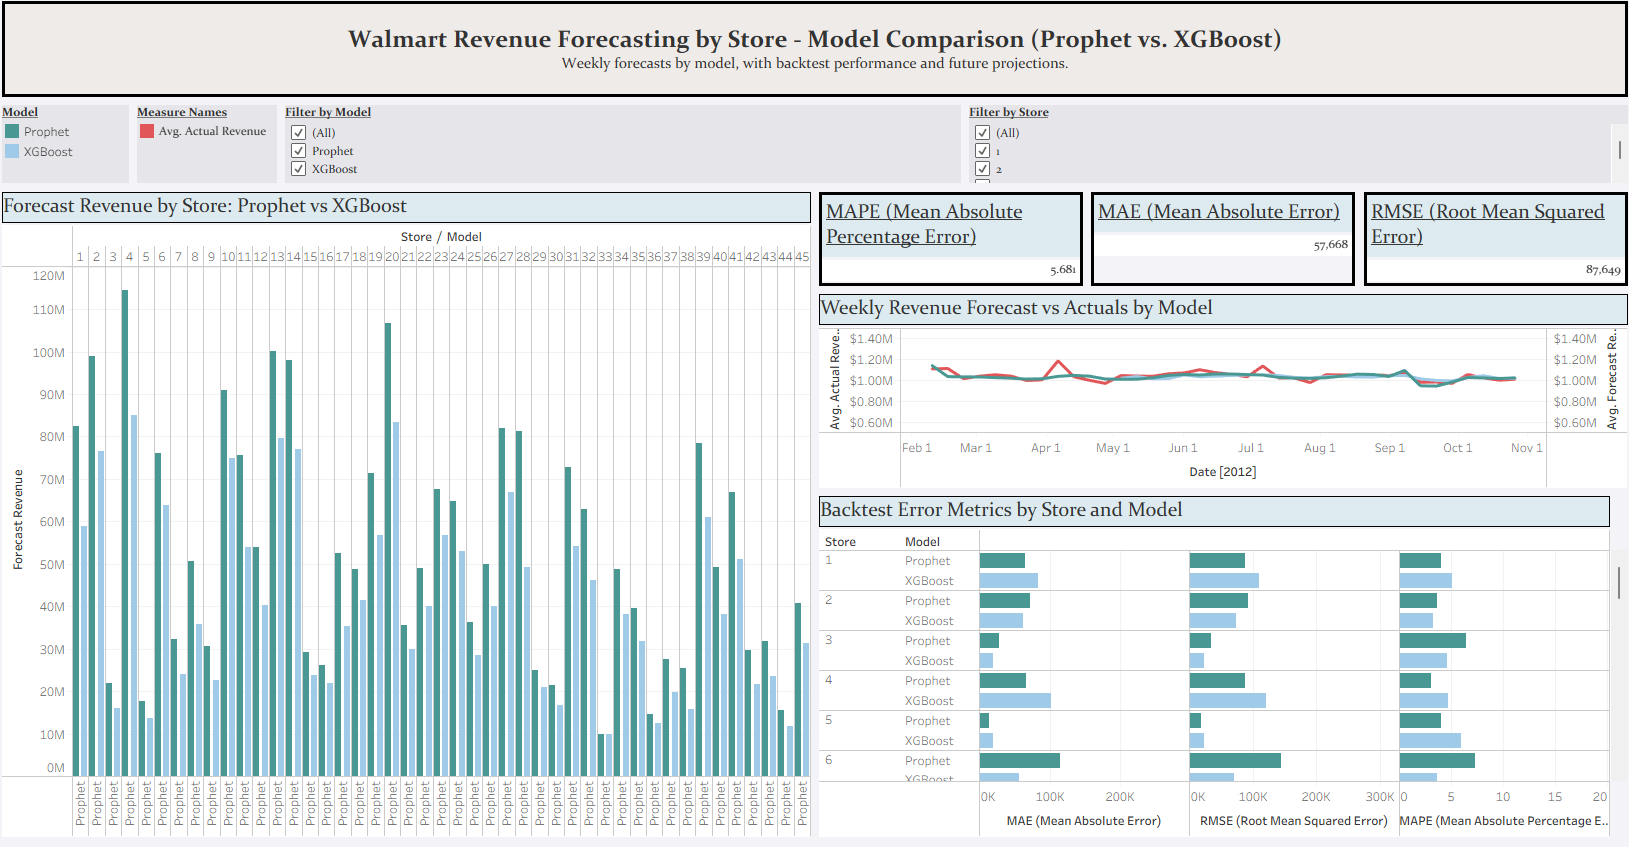

The dashboard page shown, as its layout file describes it:
{"tool":"tableau","page":{"name":"Walmart Revenue Forecasting by Store - Model Comparison (Prophet vs. XGBoost)","canvas":[1000,1000],"units":"permille","ordinal":0},"visuals":[{"type":"title","box":[4.9,9.3,990.3,121.3]},{"type":"legend","title":"Forecast Revenue by Store: Prophet vs XGBoost","param":"[federated.1lsg6390mws51613cednz02u2sxn].[none:model:nk]","box":[4.9,130.7,81.8,100.4]},{"type":"legend","title":"Weekly Revenue Forecast vs Actuals by Model","param":"[federated.1lsg6390mws51613cednz02u2sxn].[:Measure Names]","box":[86.7,130.7,89.7,100.4]},{"type":"filter","title":"Forecast Revenue by Store: Prophet vs XGBoost","param":"[federated.1lsg6390mws51613cednz02u2sxn].[none:model:nk]","box":[176.3,130.7,414.6,100.4]},{"type":"filter","title":"Forecast Revenue by Store: Prophet vs XGBoost","param":"[federated.1lsg6390mws51613cednz02u2sxn].[none:store:ok]","box":[590.9,130.7,404.2,100.4]},{"type":"worksheet","title":"Forecast Revenue by Store: Prophet vs XGBoost","mark":"Bar","rows":["forecast_revenue"],"cols":["store","model"],"box":[4.9,231,495.1,759.6]},{"type":"worksheet","title":"MAPE","mark":"Automatic","box":[500,231,165.1,119]},{"type":"worksheet","title":"MAE","mark":"Automatic","box":[665,231,165.1,119]},{"type":"worksheet","title":"RMSE","mark":"Automatic","box":[830.1,231,165.1,119]},{"type":"worksheet","title":"Weekly Revenue Forecast vs Actuals by Model","mark":"Line","rows":["actual_revenue","forecast_revenue"],"cols":["date"],"box":[500,350.1,495.2,233.4]},{"type":"worksheet","title":"Backtest Error Metrics by Store and Model","mark":"Automatic","rows":["store","model"],"cols":["Calculation_729020211986128900","Calculation_729020211986173957","Calculation_729020211986227206"],"box":[500,583.4,495.2,407.2]}]}

Visuals, with their boxes on the dashboard's canvas, which has no fixed pixel size, in thousandths of its width and height (x1, y1, x2, y2). These are canvas units, not pixel positions in the 1629x847 screenshot, which may show the page scaled, cropped or inside an application window:
title: (5, 9, 995, 131)
"Forecast Revenue by Store: Prophet vs XGBoost" legend: (5, 131, 87, 231)
"Weekly Revenue Forecast vs Actuals by Model" legend: (87, 131, 176, 231)
"Forecast Revenue by Store: Prophet vs XGBoost" filter: (176, 131, 591, 231)
"Forecast Revenue by Store: Prophet vs XGBoost" filter: (591, 131, 995, 231)
"Forecast Revenue by Store: Prophet vs XGBoost" worksheet (Bar marks): (5, 231, 500, 991)
"MAPE" worksheet: (500, 231, 665, 350)
"MAE" worksheet: (665, 231, 830, 350)
"RMSE" worksheet: (830, 231, 995, 350)
"Weekly Revenue Forecast vs Actuals by Model" worksheet (Line marks): (500, 350, 995, 584)
"Backtest Error Metrics by Store and Model" worksheet: (500, 583, 995, 991)
